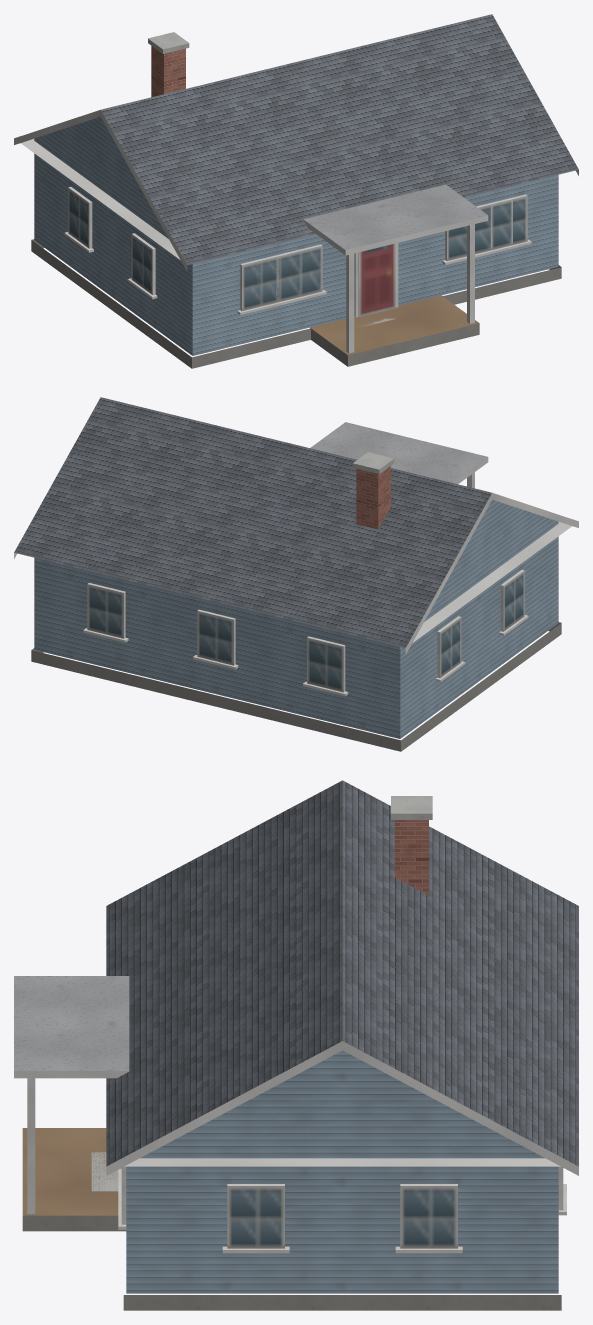
Rendered from house_bungalow_blue.fbx.
3 renders of one model, top to bottom at view 1: azimuth 30°, elevation 25°; view 2: azimuth 150°, elevation 25°; view 3: azimuth 270°, elevation 25°, orthographic. The views are drawn at different scales.
Parts seen in each view (by area): view 1: house_bungalow_blue; view 2: house_bungalow_blue; view 3: house_bungalow_blue.
Boxes of the visible parts, bbox=[...] form: house_bungalow_blue: bbox=[14, 14, 578, 368]; house_bungalow_blue: bbox=[14, 397, 578, 751]; house_bungalow_blue: bbox=[14, 780, 578, 1310].
Bounding box in the file's own units: 10.7 × 6.02 × 9.8.
1 material, 1 textured.
